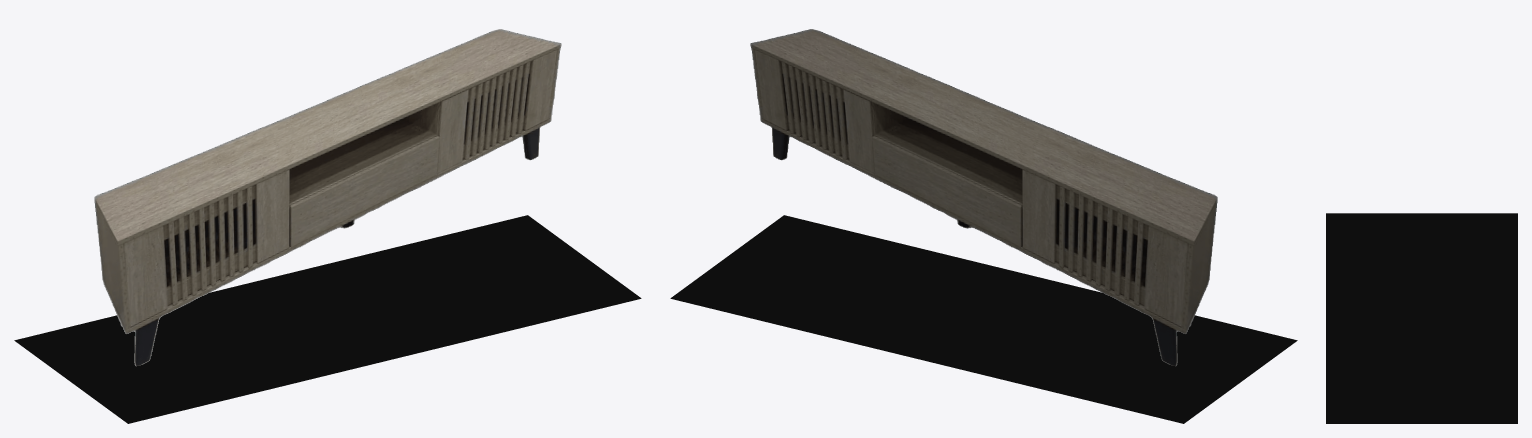
The model's file is arm-c9fc8d8280.glb.
3 views of the same model, side by side, from view 1: azimuth 30°, elevation 25°; view 2: azimuth 150°, elevation 25°; view 3: azimuth 270°, elevation 25° (orthographic). The views are drawn at different scales.
Bounding box in the file's own units: 1.46 × 0.675 × 0.56.
Materials: 2 (2 with a texture image).
